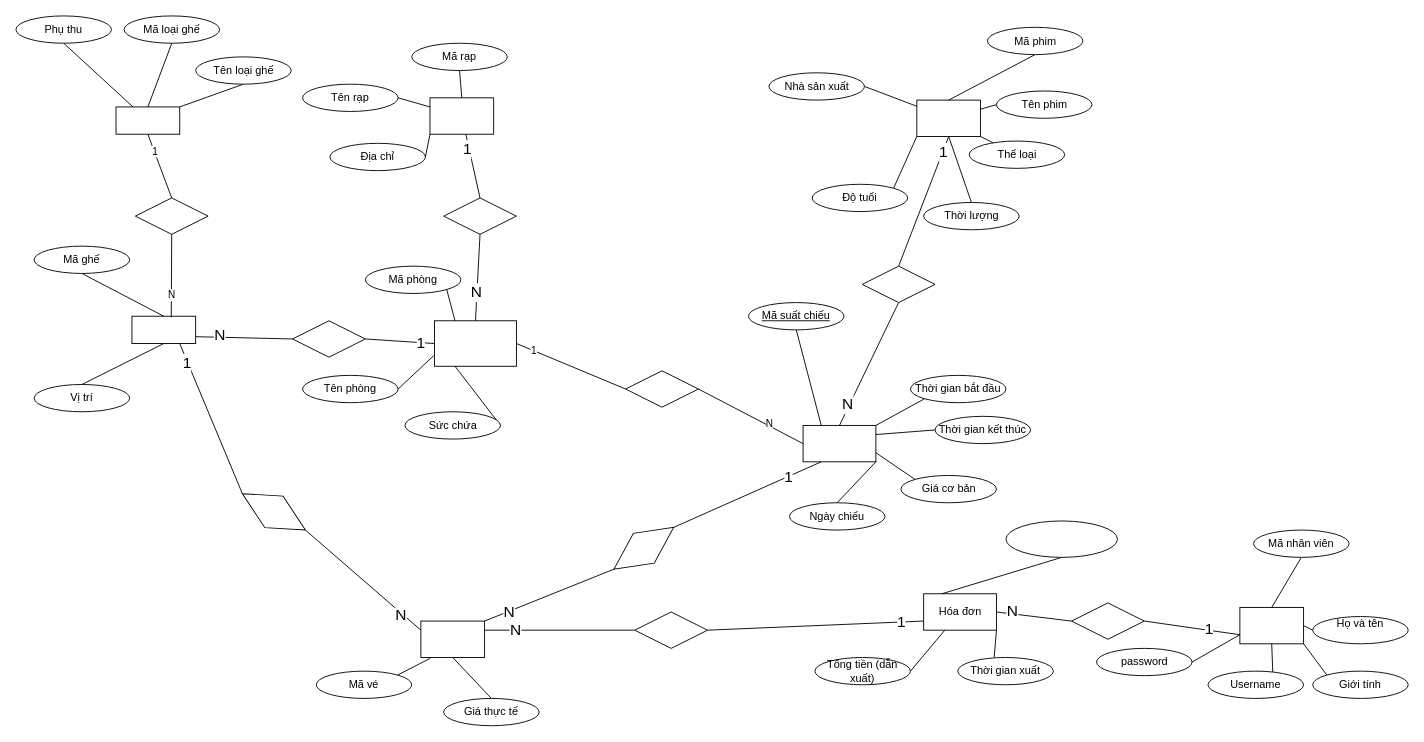
Some shapes in this 1424 by 742 pixel diagram are drawn without their labels. Each missing label, with the centre of its shape:
"Ghế" belongs at (163,329).
"Loại ghế" belongs at (147,120).
"Mã hóa đơn" belongs at (1061,538).
"Nhân viên" belongs at (1271,625).
"Phim" belongs at (948,117).
"Phòng chiếu" belongs at (475,343).
"Rạp" belongs at (461,115).
"Suất chiếu" belongs at (839,443).
"Vé" belongs at (452,638).
